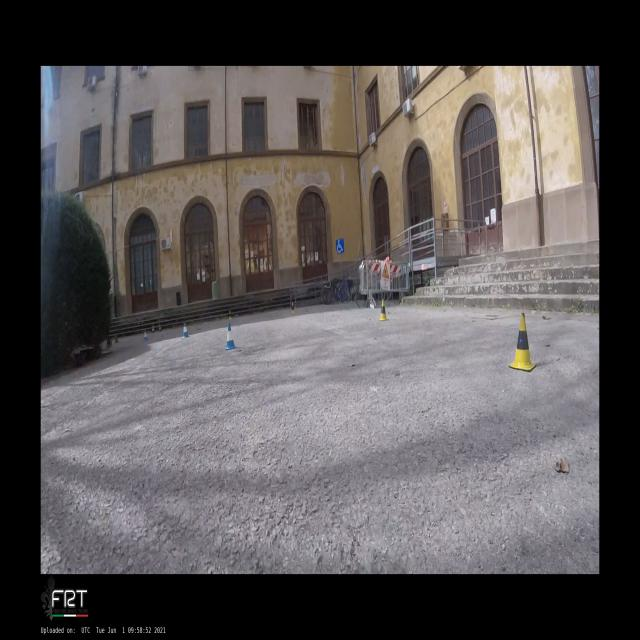blue_cone: (225, 322, 237, 350), (183, 323, 189, 338), (143, 329, 149, 342)
large_orange_cone: (158, 323, 162, 332), (152, 324, 155, 333)
yellow_cone: (509, 313, 535, 371), (379, 300, 388, 320), (291, 302, 295, 314), (228, 311, 232, 320)
